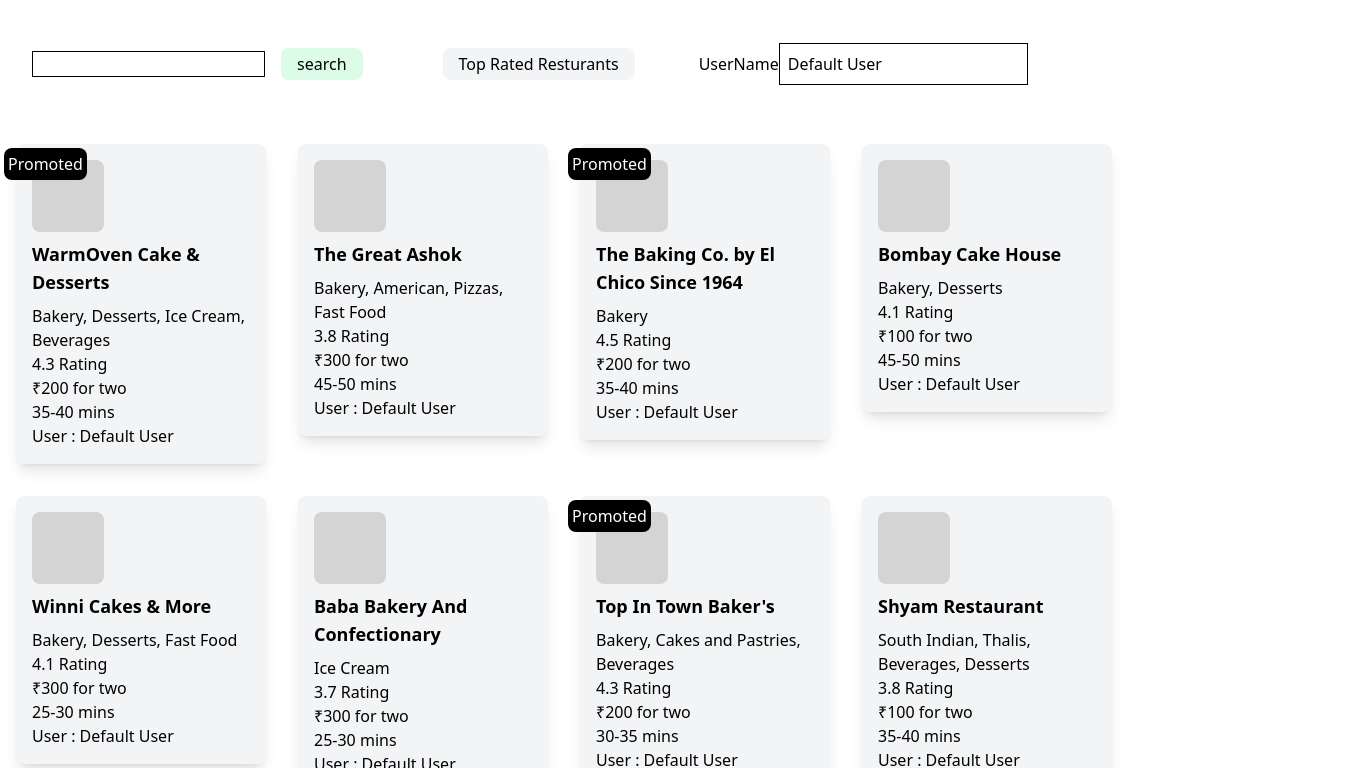
Test case: should filter Top Rated Resturants
Click the button "Top Rated Resturants" at (539, 64), box [442,48,635,80]
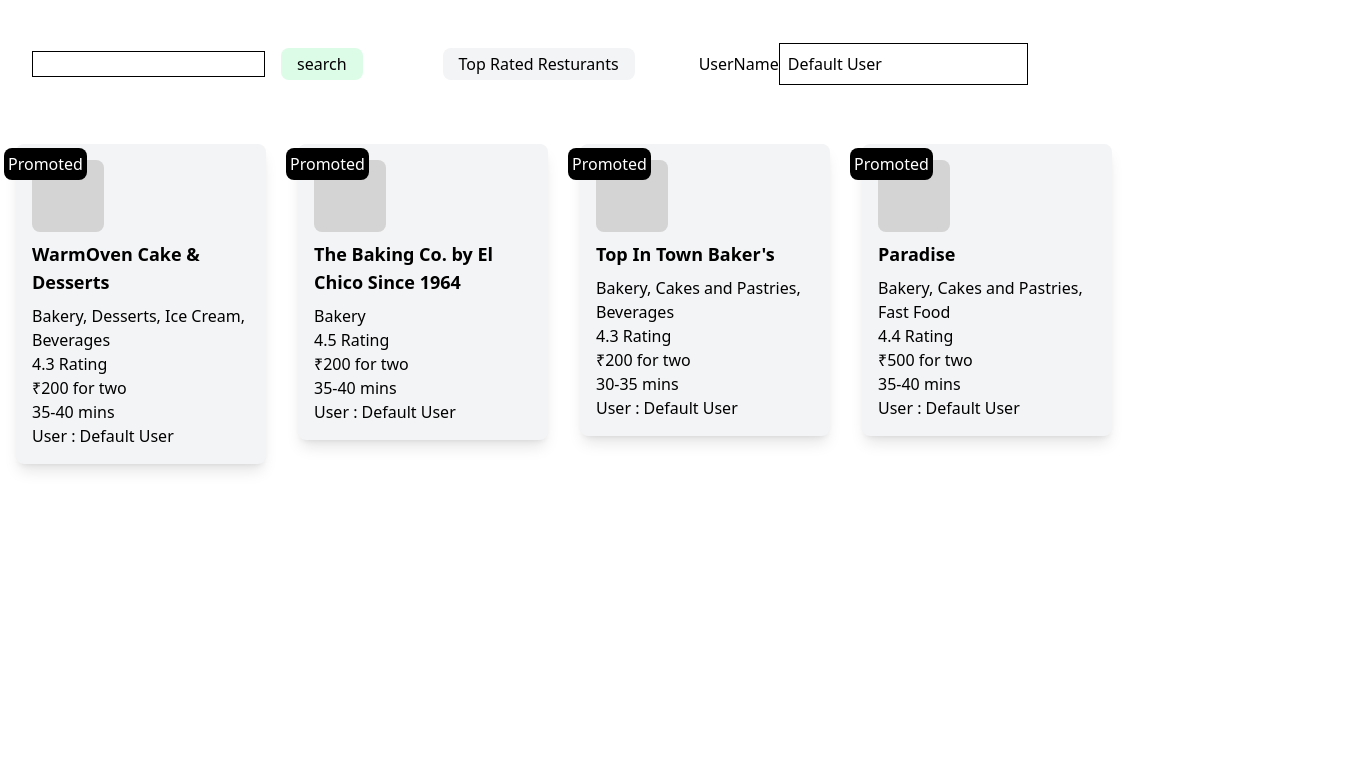
Expected: the number of elements with test id "resCard" is 4, [16,144,266,464]; [298,144,548,440]; [580,144,830,436]; [862,144,1112,436]
